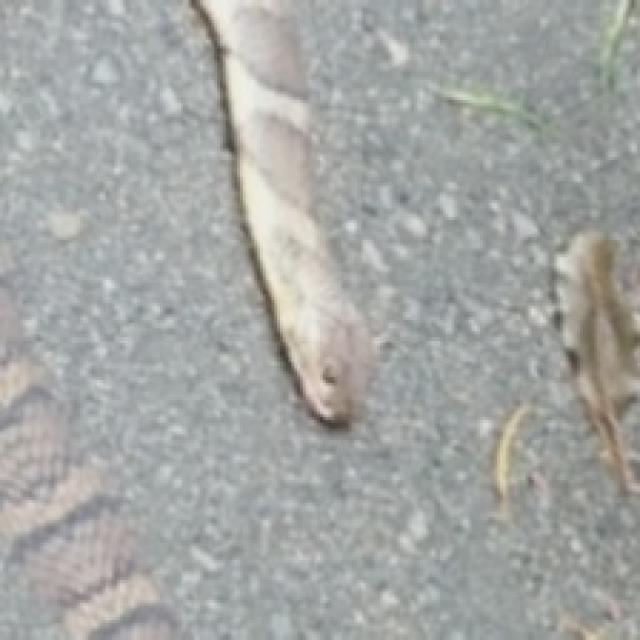king cobra: (554, 231, 637, 491)
